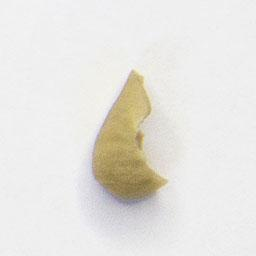defect: (87, 67, 174, 205)
